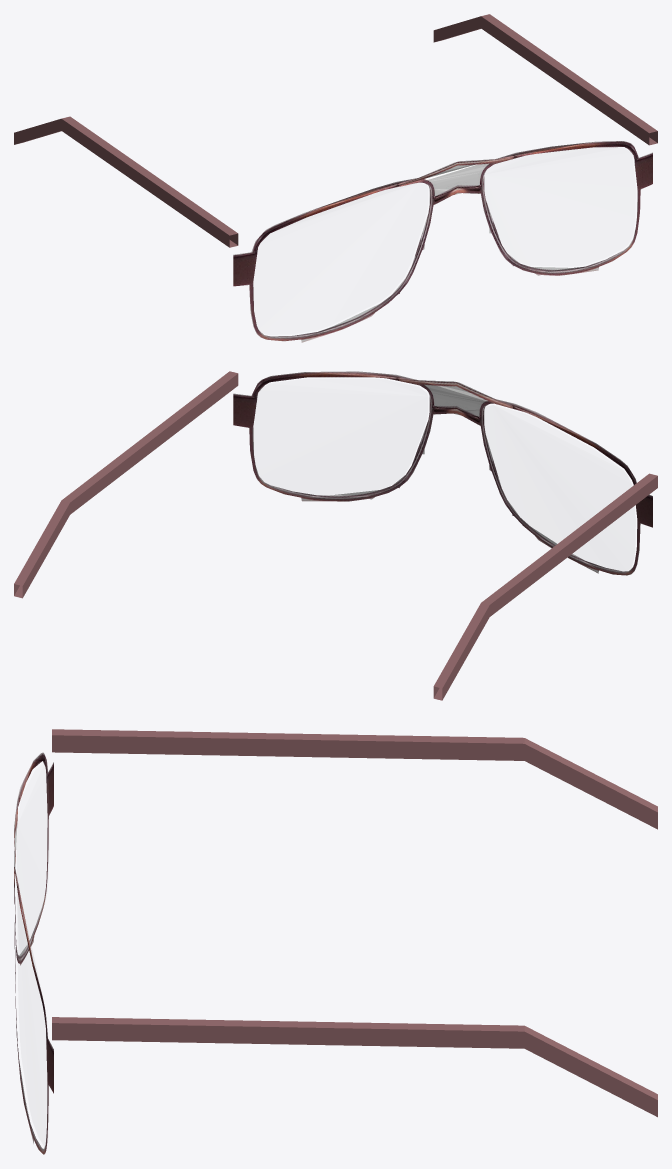
File: gothamstyle-stainless-15_antique-brown.glb
The picture shows the model from 3 angles, top to bottom: view 1: azimuth 30°, elevation 25°; view 2: azimuth 150°, elevation 25°; view 3: azimuth 270°, elevation 25°; orthographic projection. The views are drawn at different scales.
Parts seen in each view (by area): view 1: frame_front, temple_viewer_left, temple_viewer_right; view 2: frame_front, temple_viewer_left, temple_viewer_right; view 3: temple_viewer_right, temple_viewer_left, frame_front.
Part boxes in pixels (left/top/right/bottom): frame_front: left=233, top=141, right=652, bottom=342; temple_viewer_left: left=14, top=116, right=238, bottom=247; temple_viewer_right: left=433, top=14, right=657, bottom=145; frame_front: left=233, top=371, right=652, bottom=575; temple_viewer_left: left=433, top=473, right=657, bottom=700; temple_viewer_right: left=14, top=371, right=238, bottom=598; temple_viewer_right: left=52, top=1017, right=657, bottom=1117; temple_viewer_left: left=52, top=729, right=657, bottom=829; frame_front: left=14, top=752, right=53, bottom=1154.
Size of the model in its own units: 0.1468 by 0.0492 by 0.136.
Materials: 3 (2 with a texture image).
